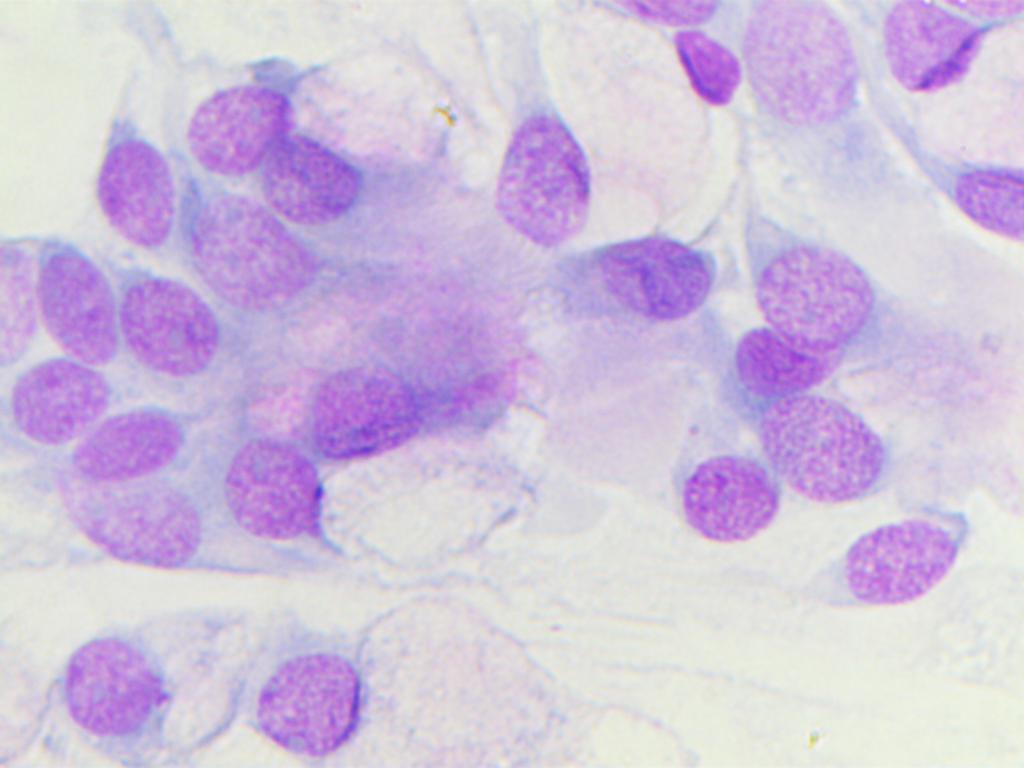epithelial: (525, 231, 727, 358), (809, 507, 987, 641), (41, 623, 174, 765), (177, 178, 311, 315), (736, 222, 873, 348), (761, 382, 898, 508), (306, 325, 436, 455), (742, 0, 868, 134), (77, 126, 183, 259), (111, 262, 217, 394), (27, 240, 123, 378), (73, 397, 186, 491), (4, 355, 115, 449), (931, 146, 1024, 252), (682, 448, 783, 544), (730, 324, 845, 399)
goblet_cell: (255, 608, 538, 768), (178, 29, 481, 176), (222, 439, 526, 578), (260, 31, 454, 226), (486, 30, 637, 246), (869, 6, 1024, 188), (616, 18, 745, 181), (48, 476, 228, 584)
